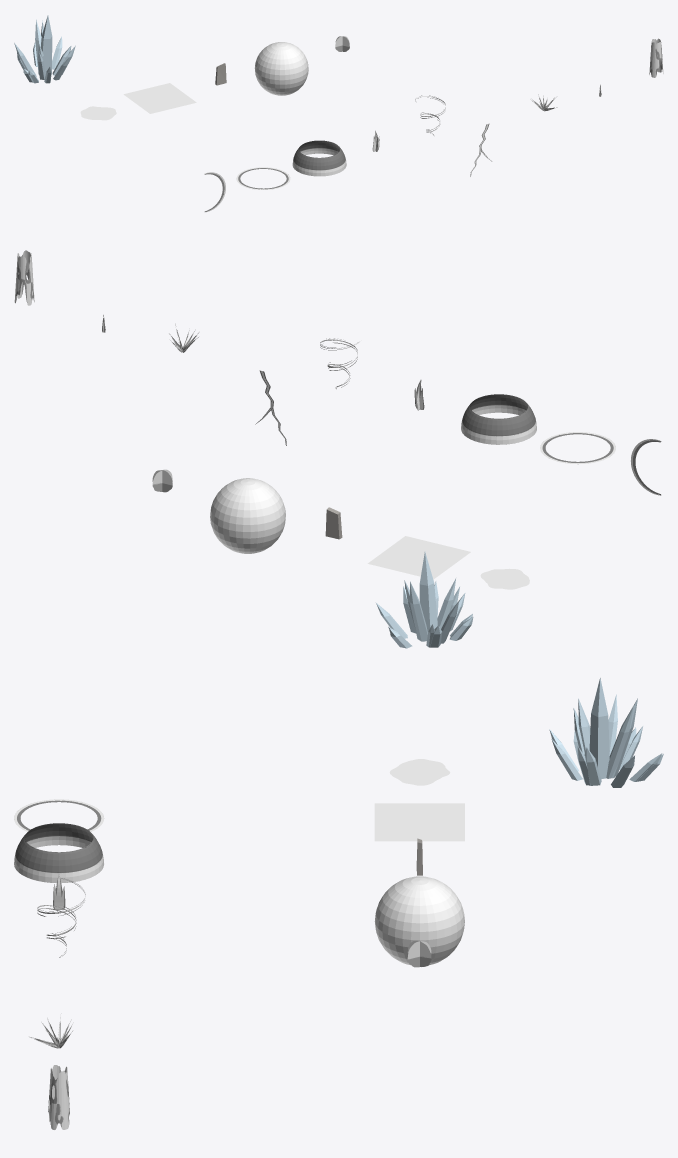
The model's file is SpikeRushFX5.fbx.
3 renders of one model, top to bottom at view 1: azimuth 30°, elevation 25°; view 2: azimuth 150°, elevation 25°; view 3: azimuth 270°, elevation 25°, orthographic. The views are drawn at different scales.
Parts seen in each view (by area): view 1: FX_Bubble, FX_IceMass, FX_Dome, FX_Crack, FX_Column, FX_Scorch, FX_Ring; view 2: FX_Bubble, FX_IceMass, FX_Dome, FX_Crack, FX_Column, FX_Scorch, FX_Ring; view 3: FX_Bubble, FX_IceMass, FX_Dome, FX_Crack, FX_Column, FX_Scorch.
Part boxes in pixels (box(x1,y1,x2,y2)): FX_Bubble: box(254, 42, 308, 95); FX_IceMass: box(14, 15, 75, 83); FX_Dome: box(292, 140, 346, 176); FX_Crack: box(123, 83, 196, 113); FX_Column: box(649, 38, 663, 77); FX_Scorch: box(80, 106, 116, 120); FX_Ring: box(236, 167, 290, 189); FX_Bubble: box(210, 478, 285, 553); FX_IceMass: box(376, 551, 473, 648); FX_Dome: box(461, 394, 536, 444); FX_Crack: box(367, 536, 470, 579); FX_Column: box(14, 250, 34, 305); FX_Scorch: box(480, 568, 529, 589); FX_Ring: box(540, 432, 615, 464); FX_Bubble: box(374, 876, 464, 965); FX_IceMass: box(549, 678, 663, 787); FX_Dome: box(14, 823, 103, 882); FX_Crack: box(374, 803, 464, 841); FX_Column: box(48, 1065, 69, 1129); FX_Scorch: box(389, 759, 450, 785).
Size of the model in its own units: 103 by 21.99 by 72.06.
13 materials, 11 textured.
